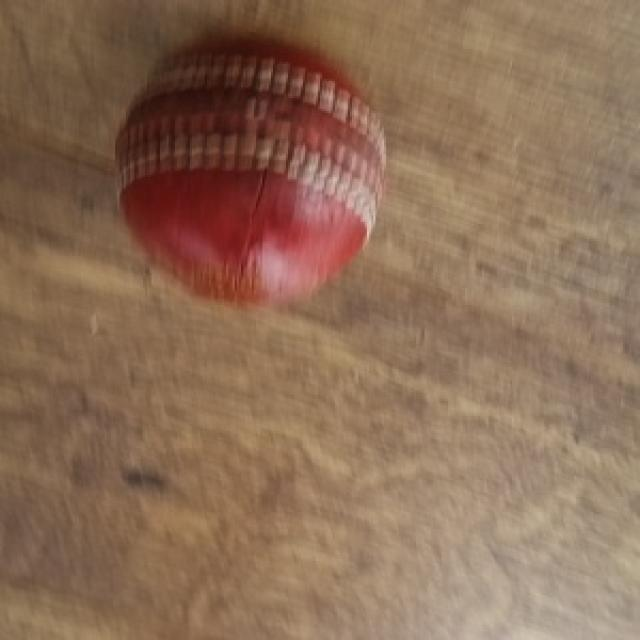ball: (113, 38, 390, 311)
